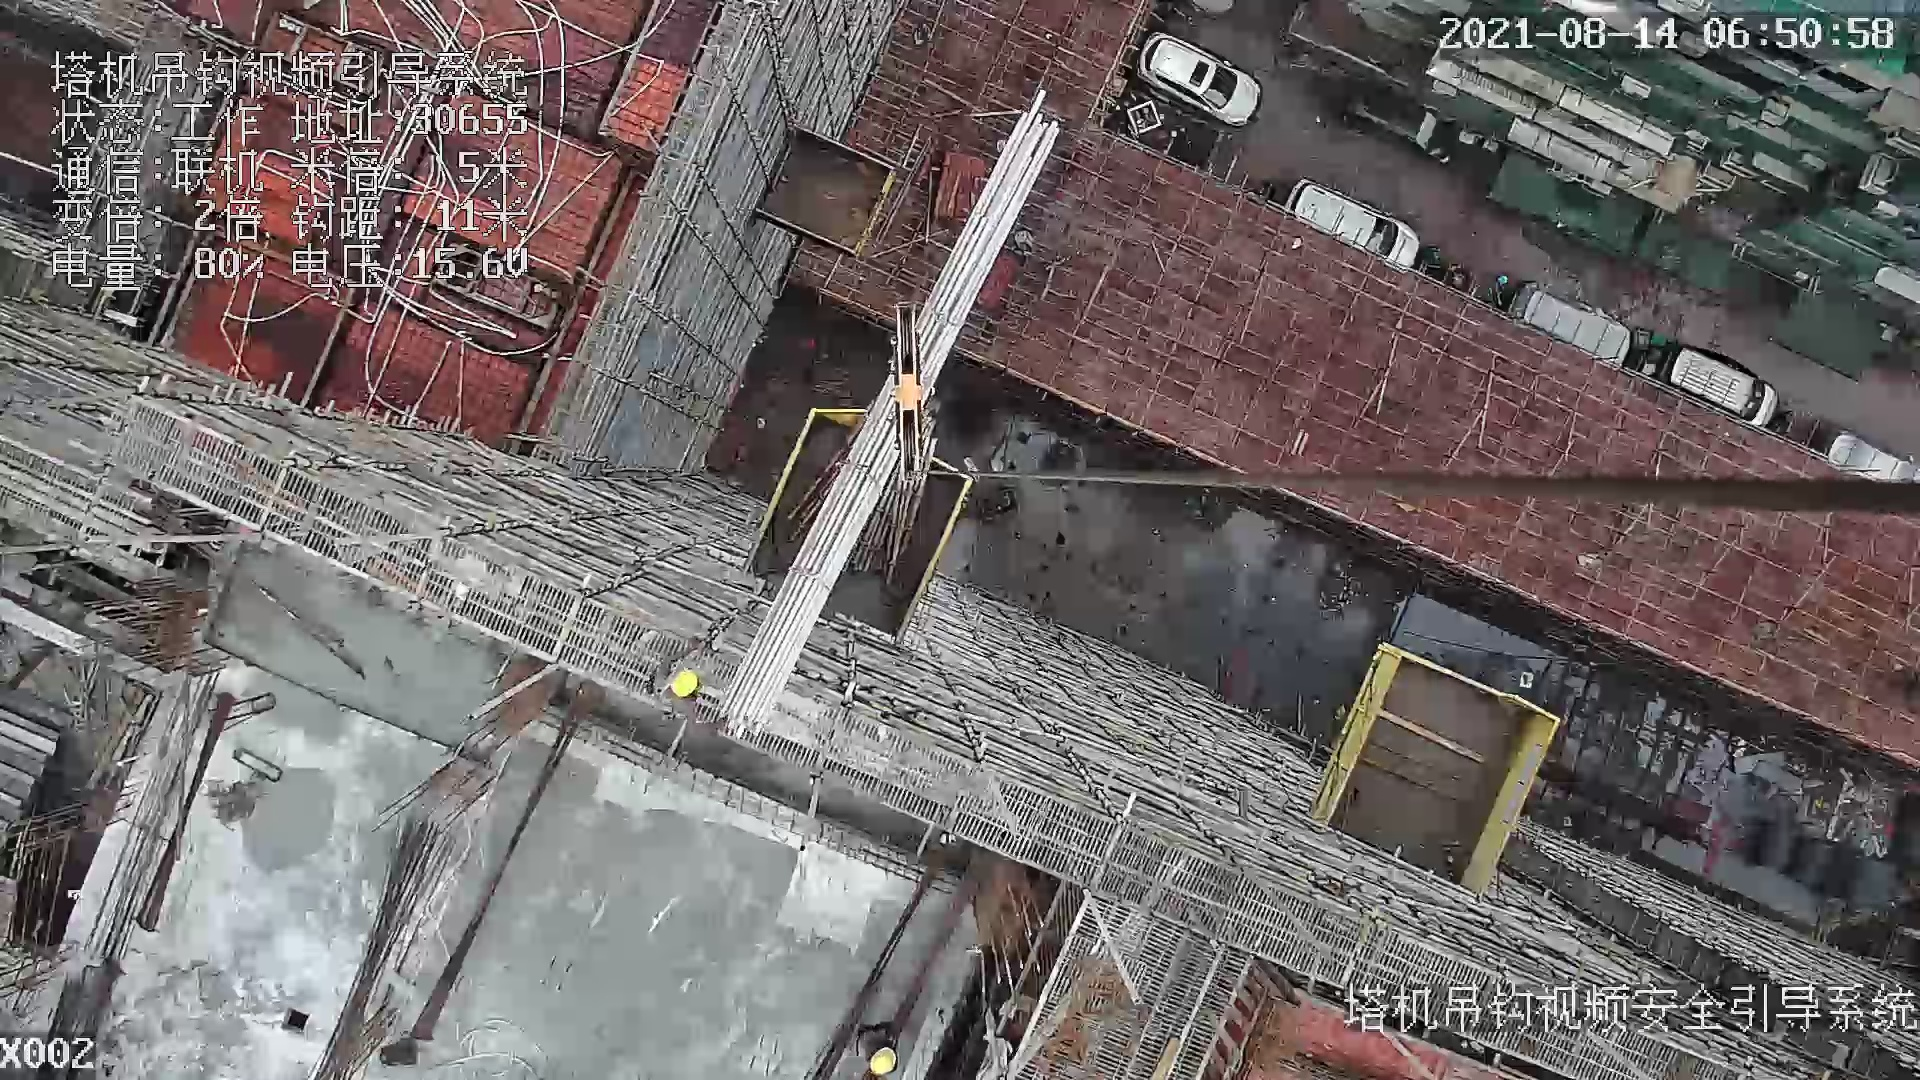helmet: (667, 666, 702, 707), (869, 1040, 902, 1076)
person: (645, 654, 735, 731), (847, 1017, 935, 1080)
